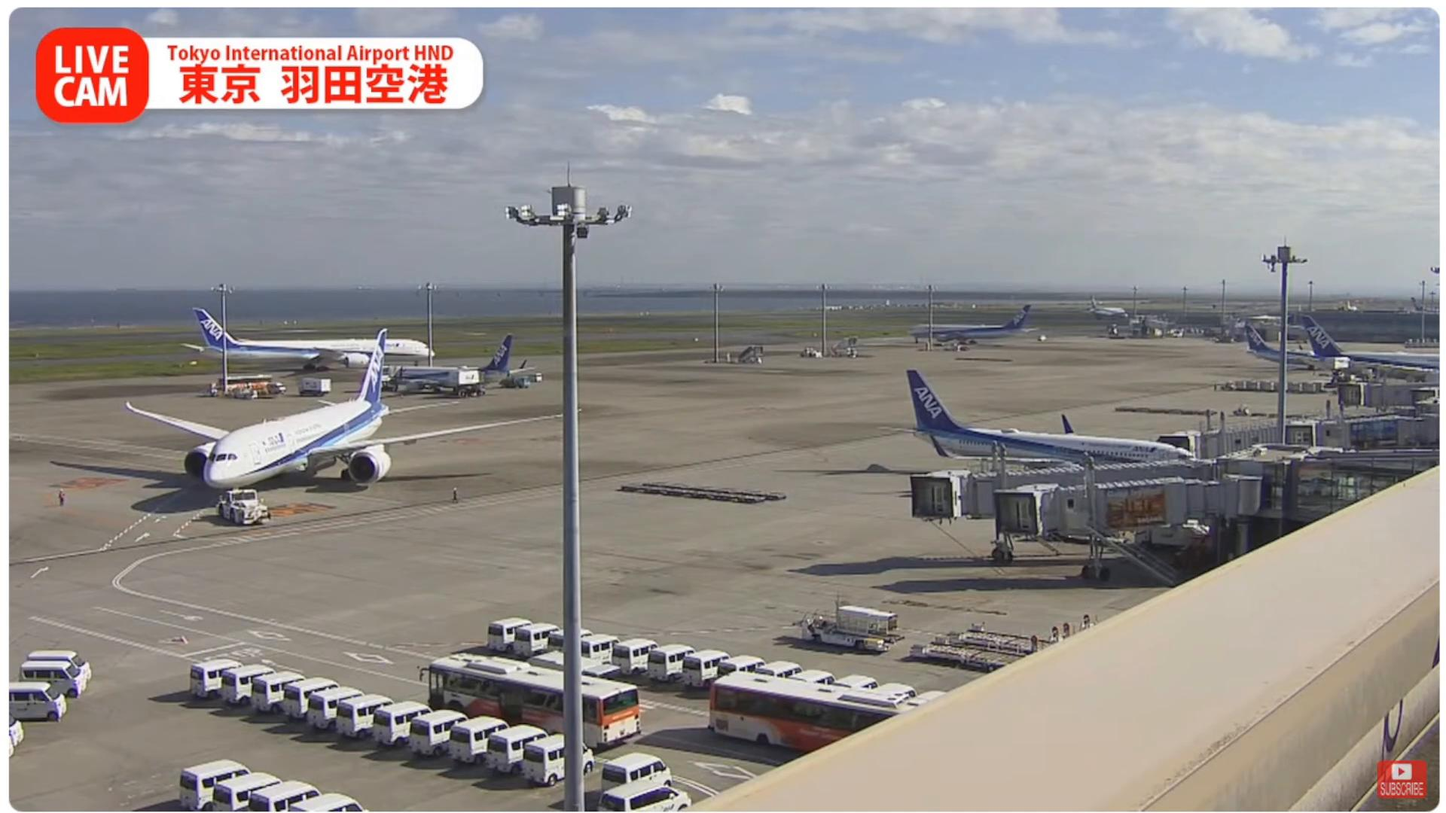APS: (206, 484, 271, 530)
Aerobridge: (909, 459, 1219, 522), (991, 476, 1264, 540)
Airplane: (124, 329, 553, 496)
JCPL: (930, 626, 1059, 654), (911, 641, 1025, 671)
Skyloader: (794, 600, 908, 654)
Window: (1290, 456, 1440, 523)
